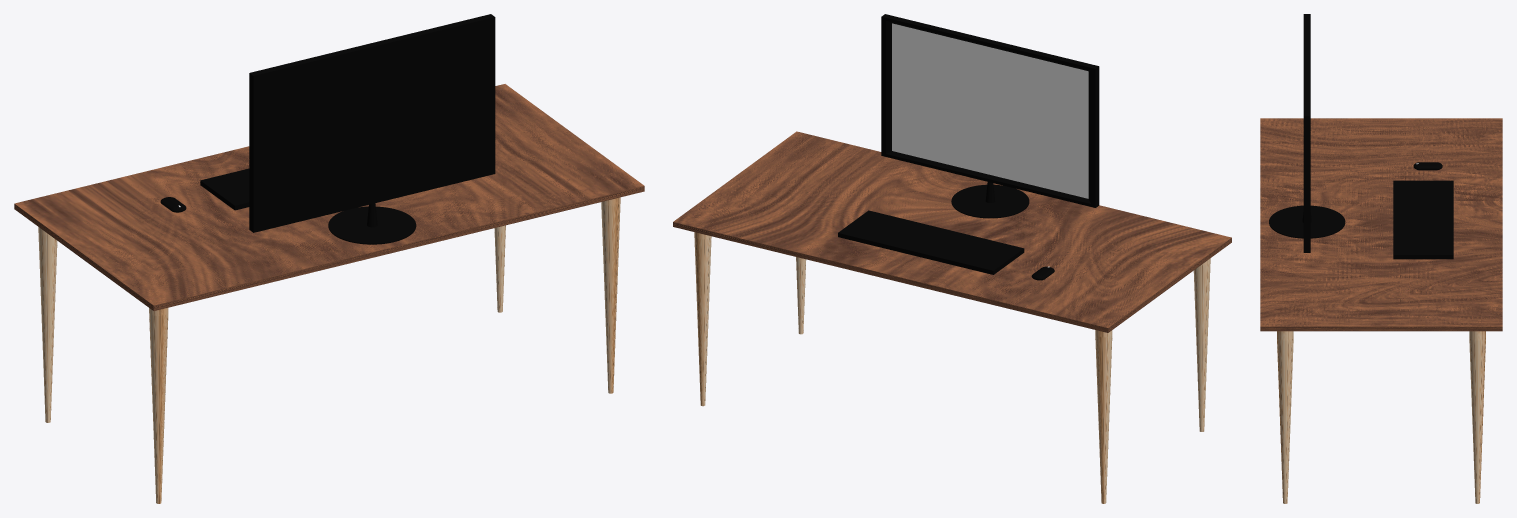
File: computer_with_a_table.glb
The picture shows the model from 3 angles, left to right: view 1: azimuth 30°, elevation 25°; view 2: azimuth 150°, elevation 25°; view 3: azimuth 270°, elevation 25°; orthographic projection. The views are drawn at different scales.
Size of the model in its own units: 1.5 by 1.15 by 0.7372.
5 materials, 2 textured.
